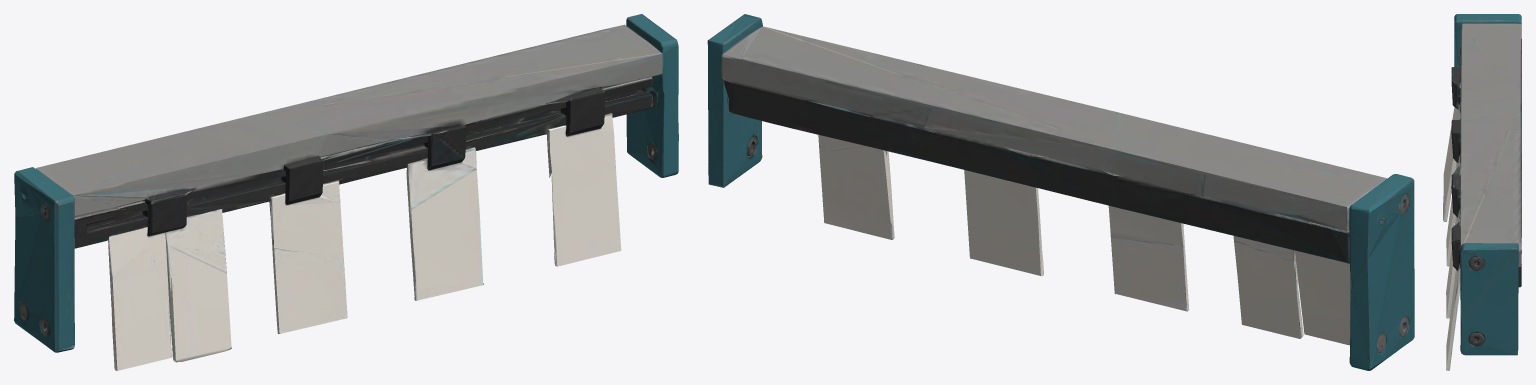
File: ticketRail.glb
The picture shows the model from 3 angles, left to right: view 1: azimuth 30°, elevation 25°; view 2: azimuth 150°, elevation 25°; view 3: azimuth 270°, elevation 25°; orthographic projection. The views are drawn at different scales.
Visible parts, largest first — view 1: Mesh_0; view 2: Mesh_0; view 3: Mesh_0.
Part boxes in pixels (<box>): Mesh_0: <box>14,14,678,370</box>; Mesh_0: <box>707,14,1414,370</box>; Mesh_0: <box>1443,14,1521,370</box>.
Size of the model in its own units: 0.5184 by 0.15 by 0.0718.
Materials: 1 (1 with a texture image).
